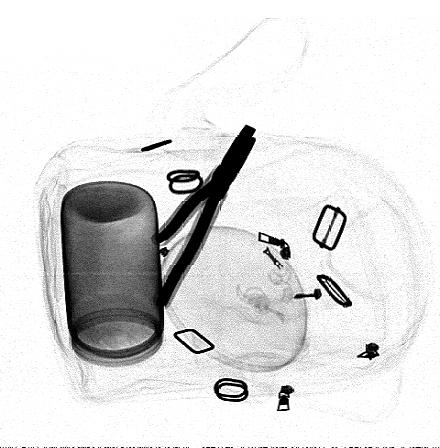Pliers: (151, 123, 260, 310)
